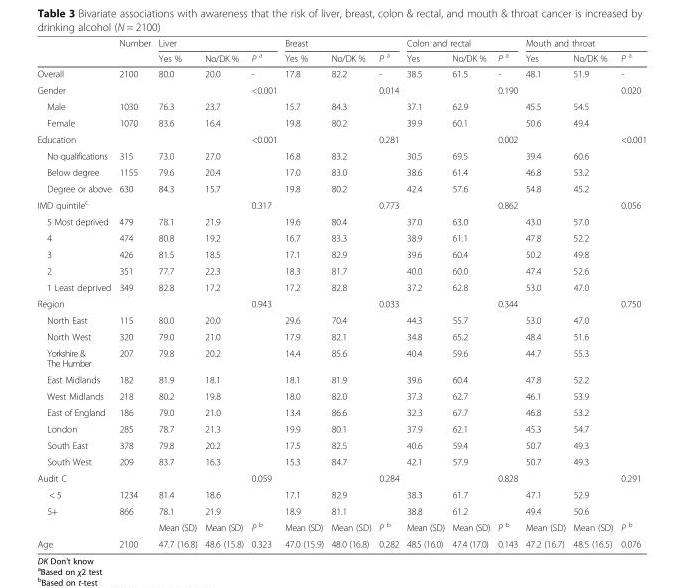table: (36, 37, 646, 549)
table column: (36, 37, 114, 549), (326, 37, 374, 549), (568, 37, 616, 549), (153, 37, 200, 549), (521, 37, 568, 549), (200, 37, 246, 549), (280, 37, 326, 549), (447, 37, 493, 549), (402, 37, 447, 549), (114, 37, 153, 549), (246, 37, 280, 549), (616, 37, 646, 549), (374, 37, 402, 549), (493, 37, 521, 549)
table column header: (36, 37, 646, 65)
table row: (36, 344, 646, 371), (36, 195, 646, 213), (36, 97, 646, 114), (36, 130, 646, 147), (36, 163, 646, 180), (36, 245, 646, 262), (36, 278, 646, 295), (36, 311, 646, 328), (36, 403, 646, 420), (36, 436, 646, 453), (36, 469, 646, 486), (36, 518, 646, 535), (36, 49, 646, 65), (36, 65, 646, 81), (36, 81, 646, 97), (36, 114, 646, 130), (36, 147, 646, 163), (36, 213, 646, 229), (36, 229, 646, 245), (36, 262, 646, 278), (36, 295, 646, 311), (36, 328, 646, 344), (36, 371, 646, 387), (36, 387, 646, 403), (36, 420, 646, 436), (36, 453, 646, 469), (36, 486, 646, 502), (36, 502, 646, 518), (36, 180, 646, 195), (36, 535, 646, 549), (36, 37, 646, 49)
table spanning cell: (36, 502, 114, 535), (153, 37, 280, 49), (521, 37, 646, 49), (280, 37, 402, 49), (402, 37, 521, 49), (114, 37, 153, 65)
